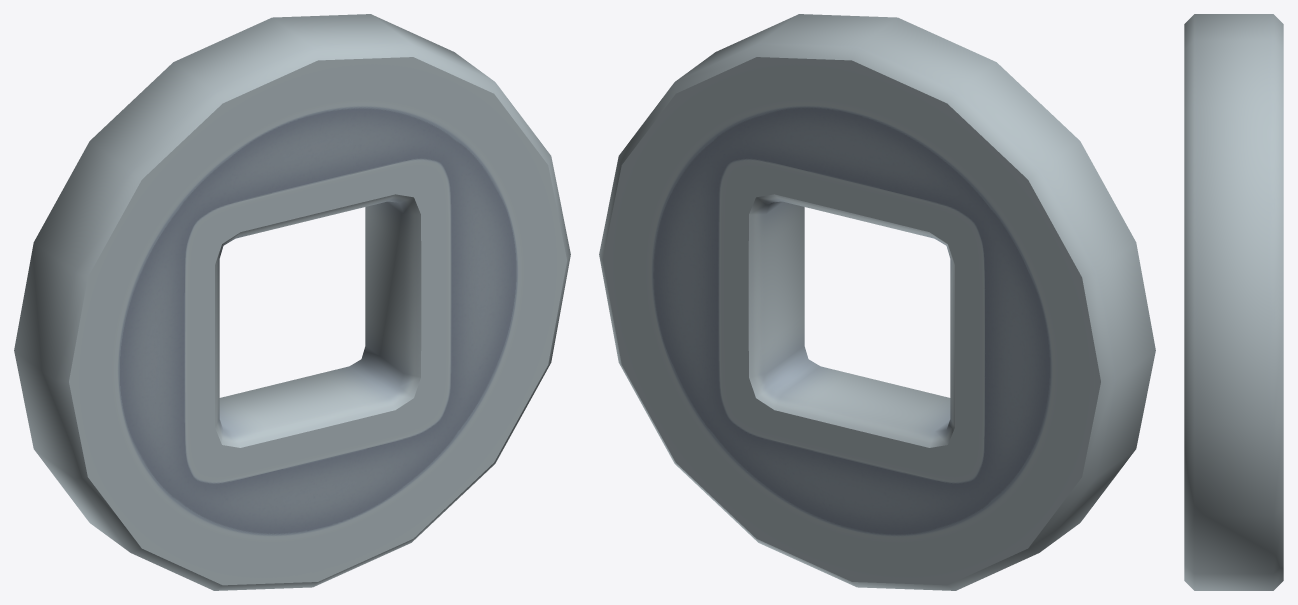
The model's file is Coin_Chinese_Silver.FBX.
3 renders of one model, left to right at view 1: azimuth 30°, elevation 25°; view 2: azimuth 150°, elevation 25°; view 3: azimuth 270°, elevation 25°, orthographic. The views are drawn at different scales.
Visible parts, largest first — view 1: Coin_Chinese_Silver; view 2: Coin_Chinese_Silver; view 3: Coin_Chinese_Silver.
Boxes of the visible parts, x1,y1,x2,y2 form: Coin_Chinese_Silver: (14, 14, 570, 590); Coin_Chinese_Silver: (599, 14, 1155, 590); Coin_Chinese_Silver: (1184, 14, 1283, 590).
Size of the model in its own units: 63 by 63 by 10.8.
Materials: 1 (1 with a texture image).
